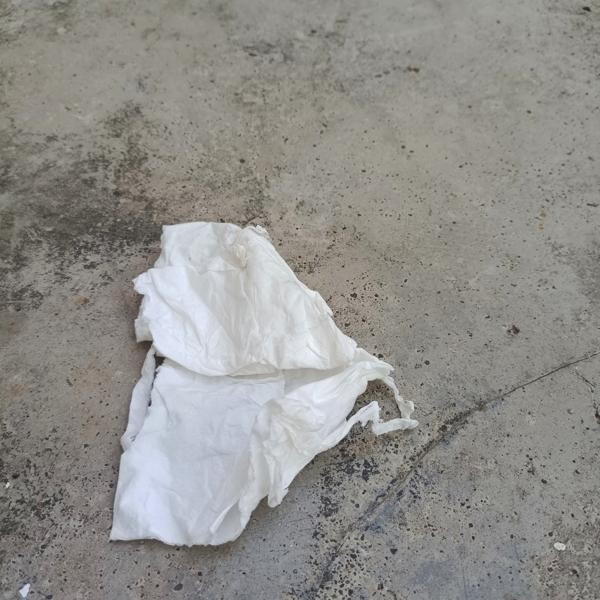Organik: (100, 214, 450, 534)
